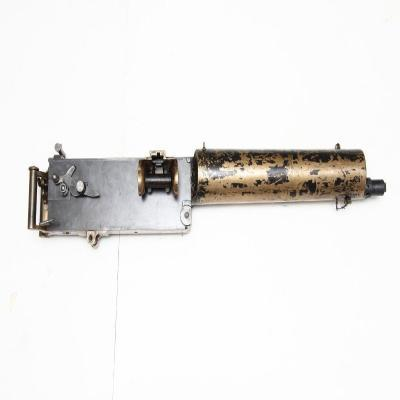weapon: (30, 148, 386, 247)
